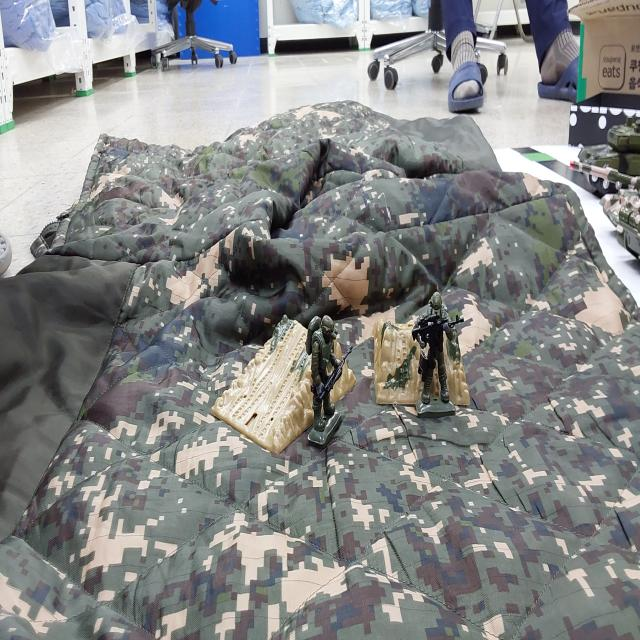enem: (412, 291, 462, 417), (306, 315, 352, 447)
